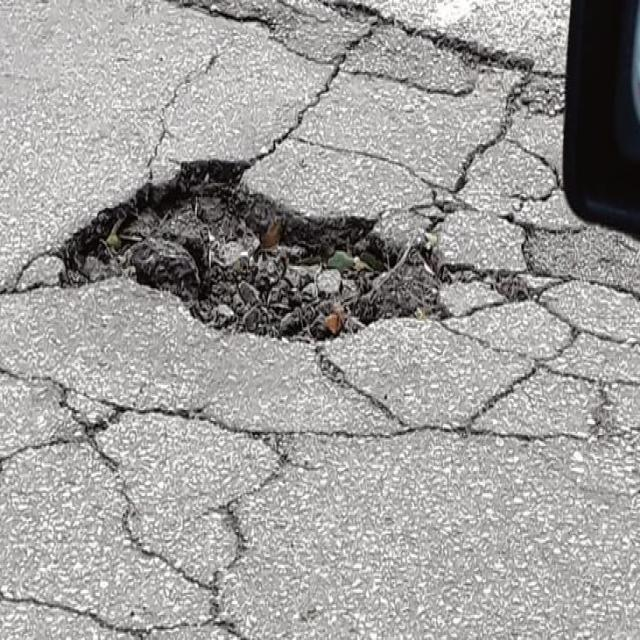major_pothole: (54, 142, 447, 350)
